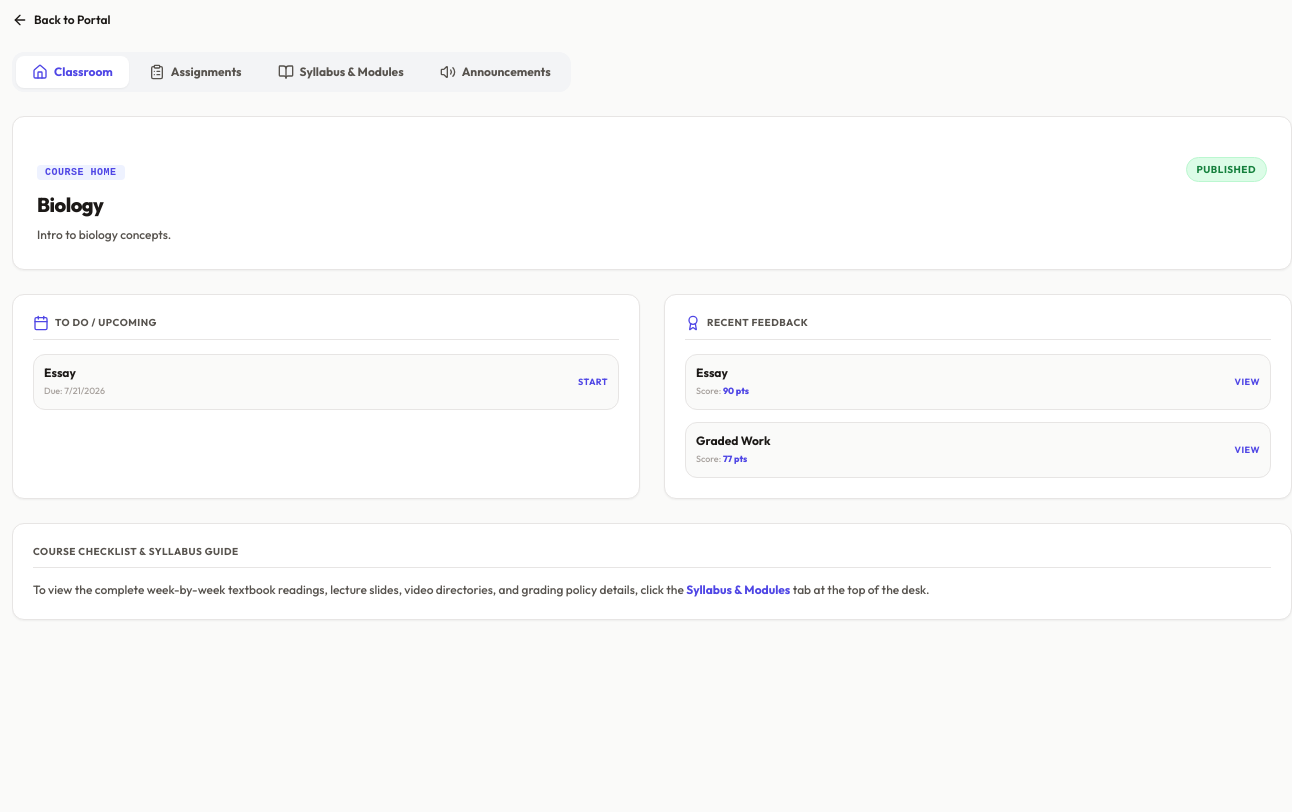
Test: StudentClassDetailPage › clicking the Syllabus & Modules link on the classroom tab switches to the syllabus tab
Expected: the heading "Biology" is shown, [37, 192, 103, 217]
Click the text "Syllabus & Modules" at (738, 589), box [686, 582, 790, 596]
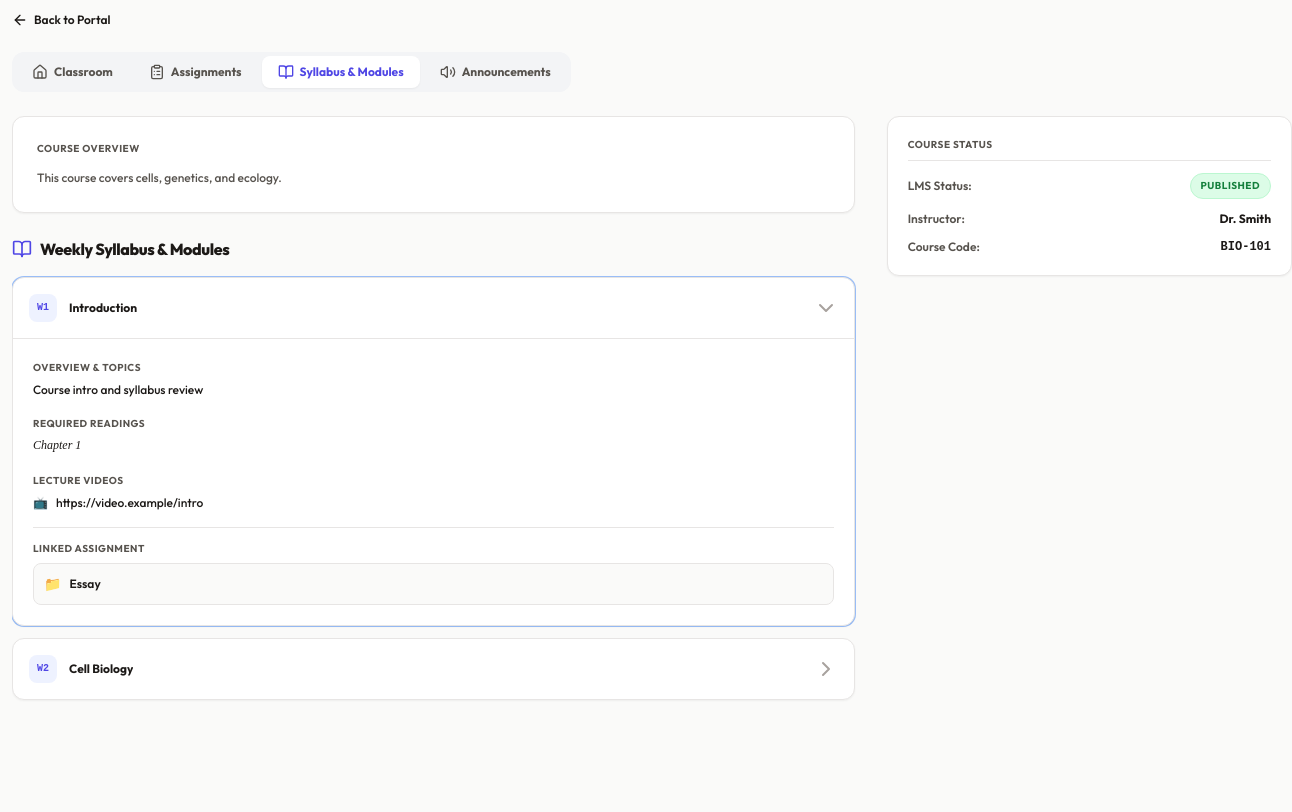
Expected: the heading "Course Overview" is shown, [37, 142, 140, 155]
